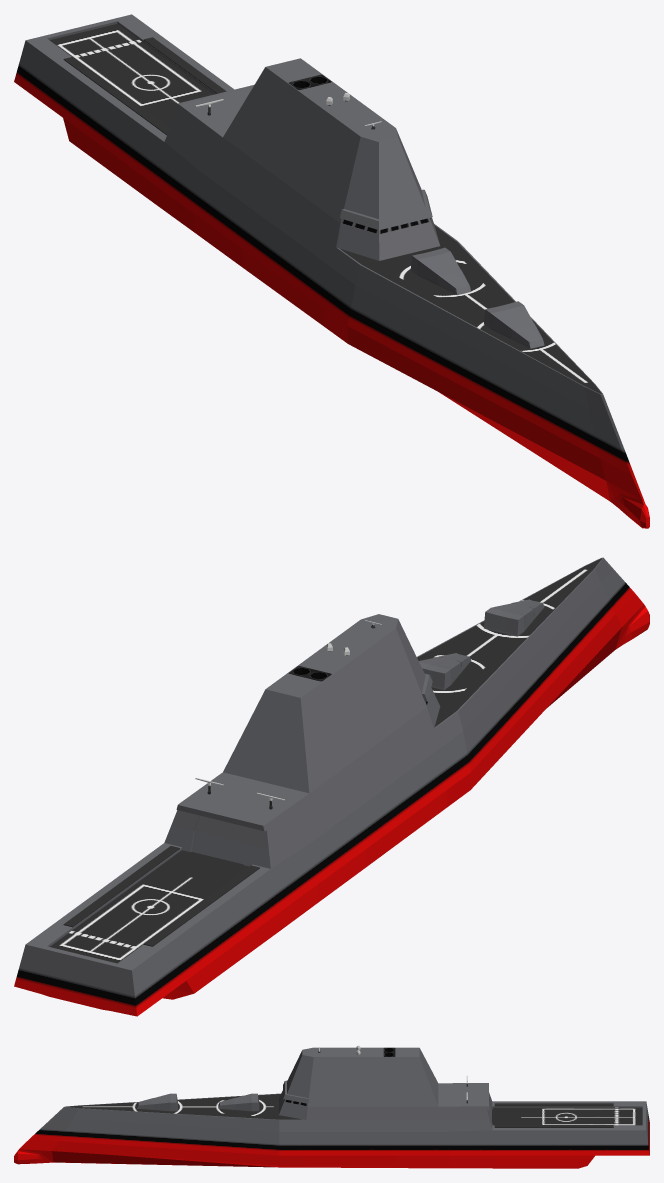
The picture shows the model from 3 angles, top to bottom: view 1: azimuth 30°, elevation 25°; view 2: azimuth 150°, elevation 25°; view 3: azimuth 270°, elevation 25°; orthographic projection. The views are drawn at different scales.
Parts seen in each view (by area): view 1: Cube.072, Cube.079, Cube.073; view 2: Cube.072, Cube.073, Cube.086, Cube.085, Cube.079; view 3: Cube.072, Cube.079, Cube.073.
Boxes of the visible parts, box(x1,y1,x2,y2) form: Cube.072: box(14, 14, 649, 528); Cube.079: box(410, 247, 460, 283); Cube.073: box(484, 301, 533, 336); Cube.072: box(14, 557, 649, 1016); Cube.073: box(484, 603, 534, 634); Cube.086: box(191, 815, 222, 857); Cube.085: box(218, 821, 246, 864); Cube.079: box(419, 657, 461, 688); Cube.072: box(14, 1045, 649, 1168); Cube.079: box(233, 1093, 259, 1110); Cube.073: box(152, 1093, 177, 1110).
Bounding box in the file's own units: 2268 × 3600 × 17971.
